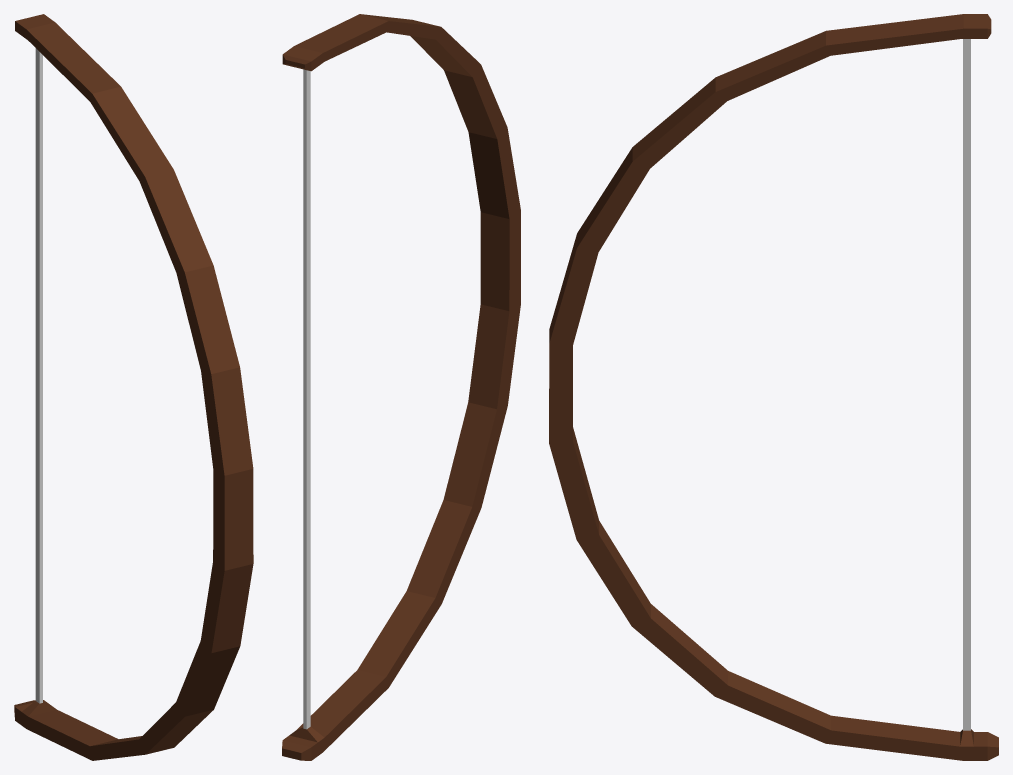
Rendered from bow.glb.
The picture shows the model from 3 angles, left to right: view 1: azimuth 30°, elevation 25°; view 2: azimuth 150°, elevation 25°; view 3: azimuth 270°, elevation 25°; orthographic projection. The views are drawn at different scales.
Visible parts, largest first — view 1: Bow; view 2: Bow; view 3: Bow.
Boxes of the visible parts, x1=… form: Bow: x1=14, y1=14, x2=253, y2=760; Bow: x1=282, y1=14, x2=520, y2=760; Bow: x1=549, y1=14, x2=998, y2=760.
Size of the model in its own units: 0.4685 by 10.85 by 6.04.
